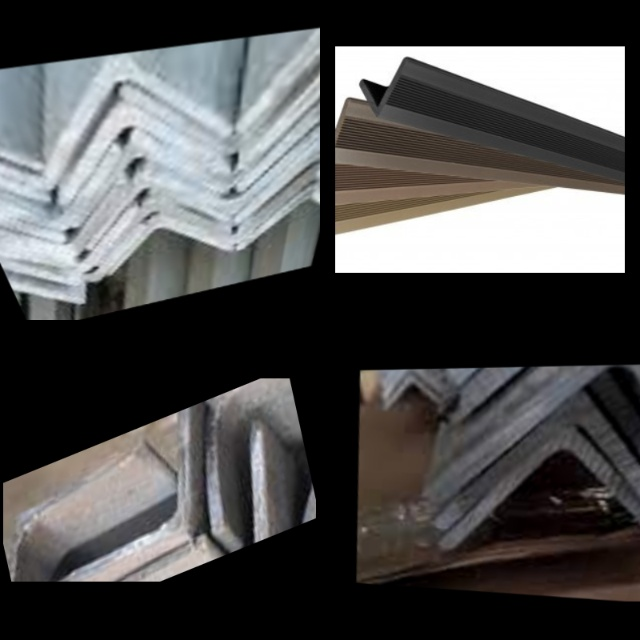Angle: (436, 362, 640, 513), (31, 411, 207, 582), (14, 39, 233, 176), (105, 425, 280, 582), (447, 396, 640, 534), (128, 39, 320, 170), (447, 427, 640, 556), (42, 91, 228, 200), (3, 449, 151, 581), (149, 129, 320, 221), (0, 96, 118, 208), (170, 493, 316, 575), (89, 185, 236, 264), (463, 363, 640, 423), (0, 188, 133, 267), (0, 210, 140, 285), (4, 223, 149, 294), (194, 388, 262, 519), (105, 210, 231, 274), (244, 21, 320, 126), (238, 97, 320, 193), (36, 544, 203, 582), (234, 150, 320, 219), (460, 363, 640, 392), (0, 235, 76, 297), (272, 427, 316, 528), (4, 260, 83, 316), (0, 185, 60, 251), (0, 132, 46, 215), (0, 87, 36, 184), (362, 60, 405, 114), (385, 377, 441, 413), (384, 369, 439, 401), (335, 101, 347, 155)
